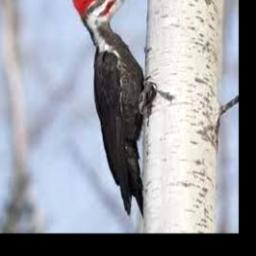Woodpecker: (72, 0, 153, 219)
